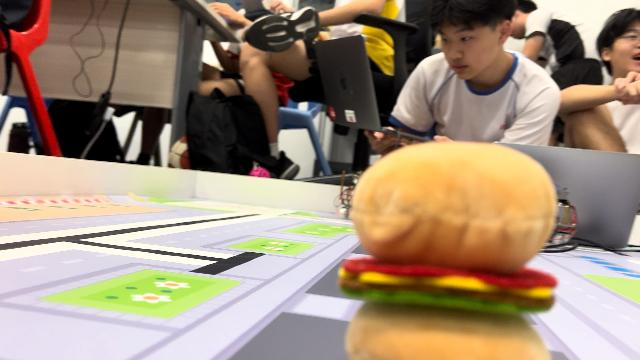burger: (352, 140, 556, 360)
